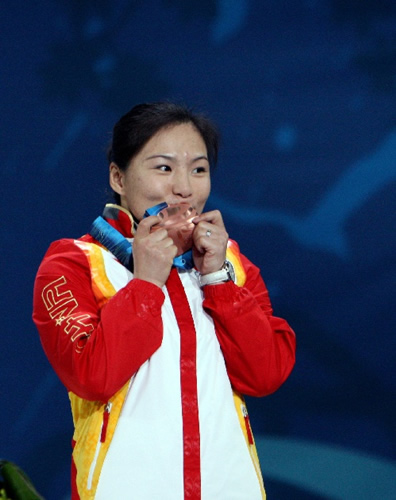face: (126, 123, 209, 233)
